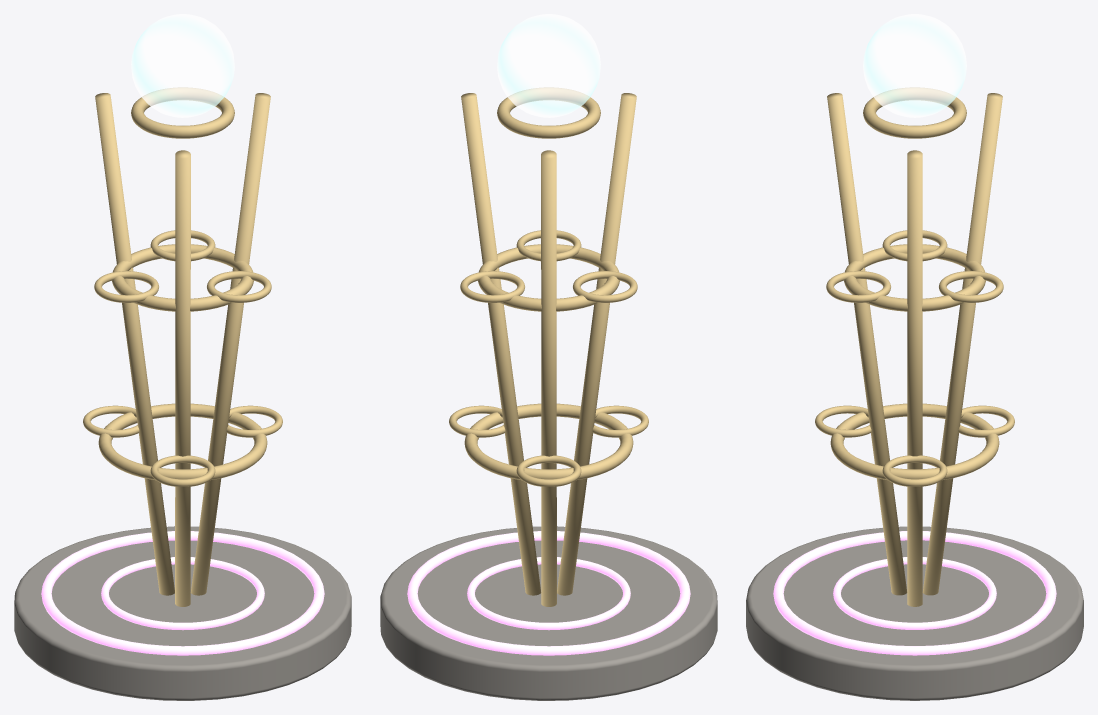
The model's file is magic_potion_stand.gltf.
3 renders of one model, left to right at view 1: azimuth 30°, elevation 25°; view 2: azimuth 150°, elevation 25°; view 3: azimuth 270°, elevation 25°, orthographic.
Parts seen in each view (by area): view 1: RuneBase, Orb, Leg1, Leg0, Leg2, RuneRing, Tier0, Tier1, Crown, RuneRingInner, Holder02, Holder11 (+4 smaller); view 2: RuneBase, Orb, Leg2, Leg0, Leg1, RuneRing, Tier0, Tier1, Crown, RuneRingInner, Holder01, Holder10 (+4 smaller); view 3: RuneBase, Orb, Leg1, Leg2, Leg0, RuneRing, Tier0, Tier1, Crown, RuneRingInner, Holder00, Holder10 (+4 smaller).
Part boxes in pixels (box(x1,y1,x2,y2)): RuneBase: box(14, 526, 351, 700); Orb: box(131, 14, 234, 117); Leg1: box(95, 93, 174, 595); Leg0: box(190, 93, 270, 595); Leg2: box(175, 150, 190, 606); RuneRing: box(41, 531, 324, 655); Tier0: box(98, 403, 267, 480); Tier1: box(112, 244, 253, 311); Crown: box(131, 87, 234, 138); RuneRingInner: box(101, 557, 264, 630); Holder02: box(150, 455, 215, 486); Holder11: box(94, 271, 158, 302); RuneBase: box(380, 526, 717, 700); Orb: box(497, 14, 600, 117); Leg2: box(557, 93, 636, 595); Leg0: box(461, 93, 541, 595); Leg1: box(541, 150, 556, 606); RuneRing: box(407, 531, 690, 655); Tier0: box(464, 403, 633, 480); Tier1: box(478, 244, 619, 311); Crown: box(497, 87, 600, 138); RuneRingInner: box(467, 557, 630, 630); Holder01: box(516, 455, 581, 486); Holder10: box(460, 271, 524, 302); RuneBase: box(746, 526, 1083, 700); Orb: box(863, 14, 966, 117); Leg1: box(922, 93, 1002, 595); Leg2: box(827, 93, 907, 595); Leg0: box(907, 150, 922, 606); RuneRing: box(773, 531, 1056, 655); Tier0: box(830, 403, 999, 480); Tier1: box(844, 244, 985, 311); Crown: box(863, 87, 966, 138); RuneRingInner: box(833, 557, 996, 629); Holder00: box(882, 455, 947, 486); Holder10: box(939, 271, 1003, 302).
Size of the model in its own units: 0.26 by 0.52 by 0.26.
